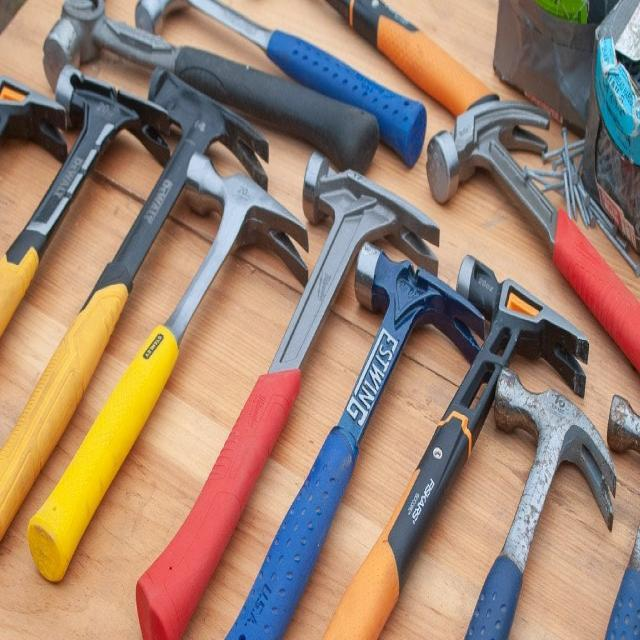hammer: (130, 149, 447, 639), (0, 59, 271, 548), (26, 147, 312, 588), (223, 237, 487, 640), (320, 250, 591, 640), (41, 0, 382, 181), (428, 96, 640, 376), (0, 60, 184, 337), (452, 365, 622, 640)
